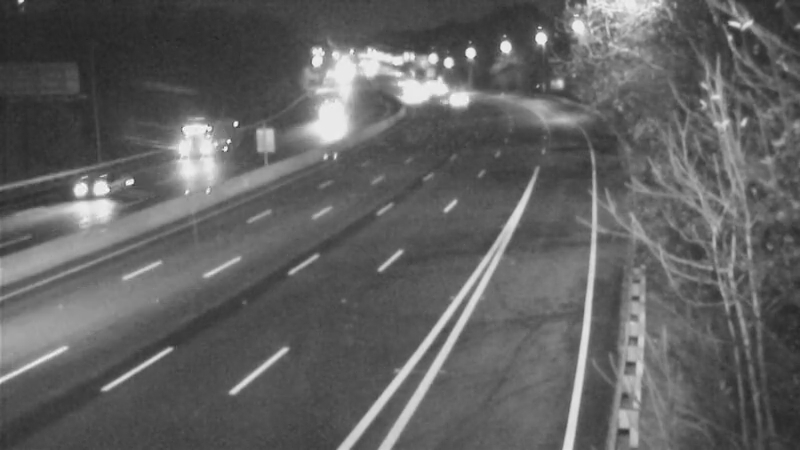vehicle: (56, 138, 136, 218), (385, 69, 435, 119), (434, 69, 484, 119), (166, 119, 216, 169), (295, 91, 345, 141)
